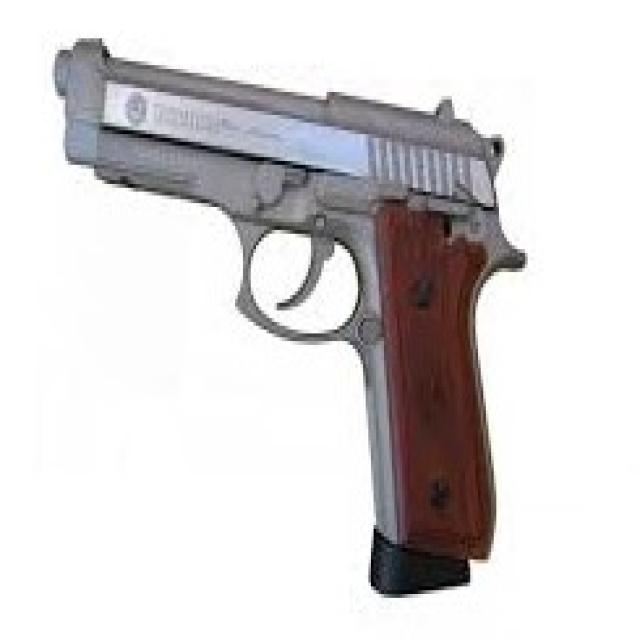pistol: (50, 32, 529, 612)
